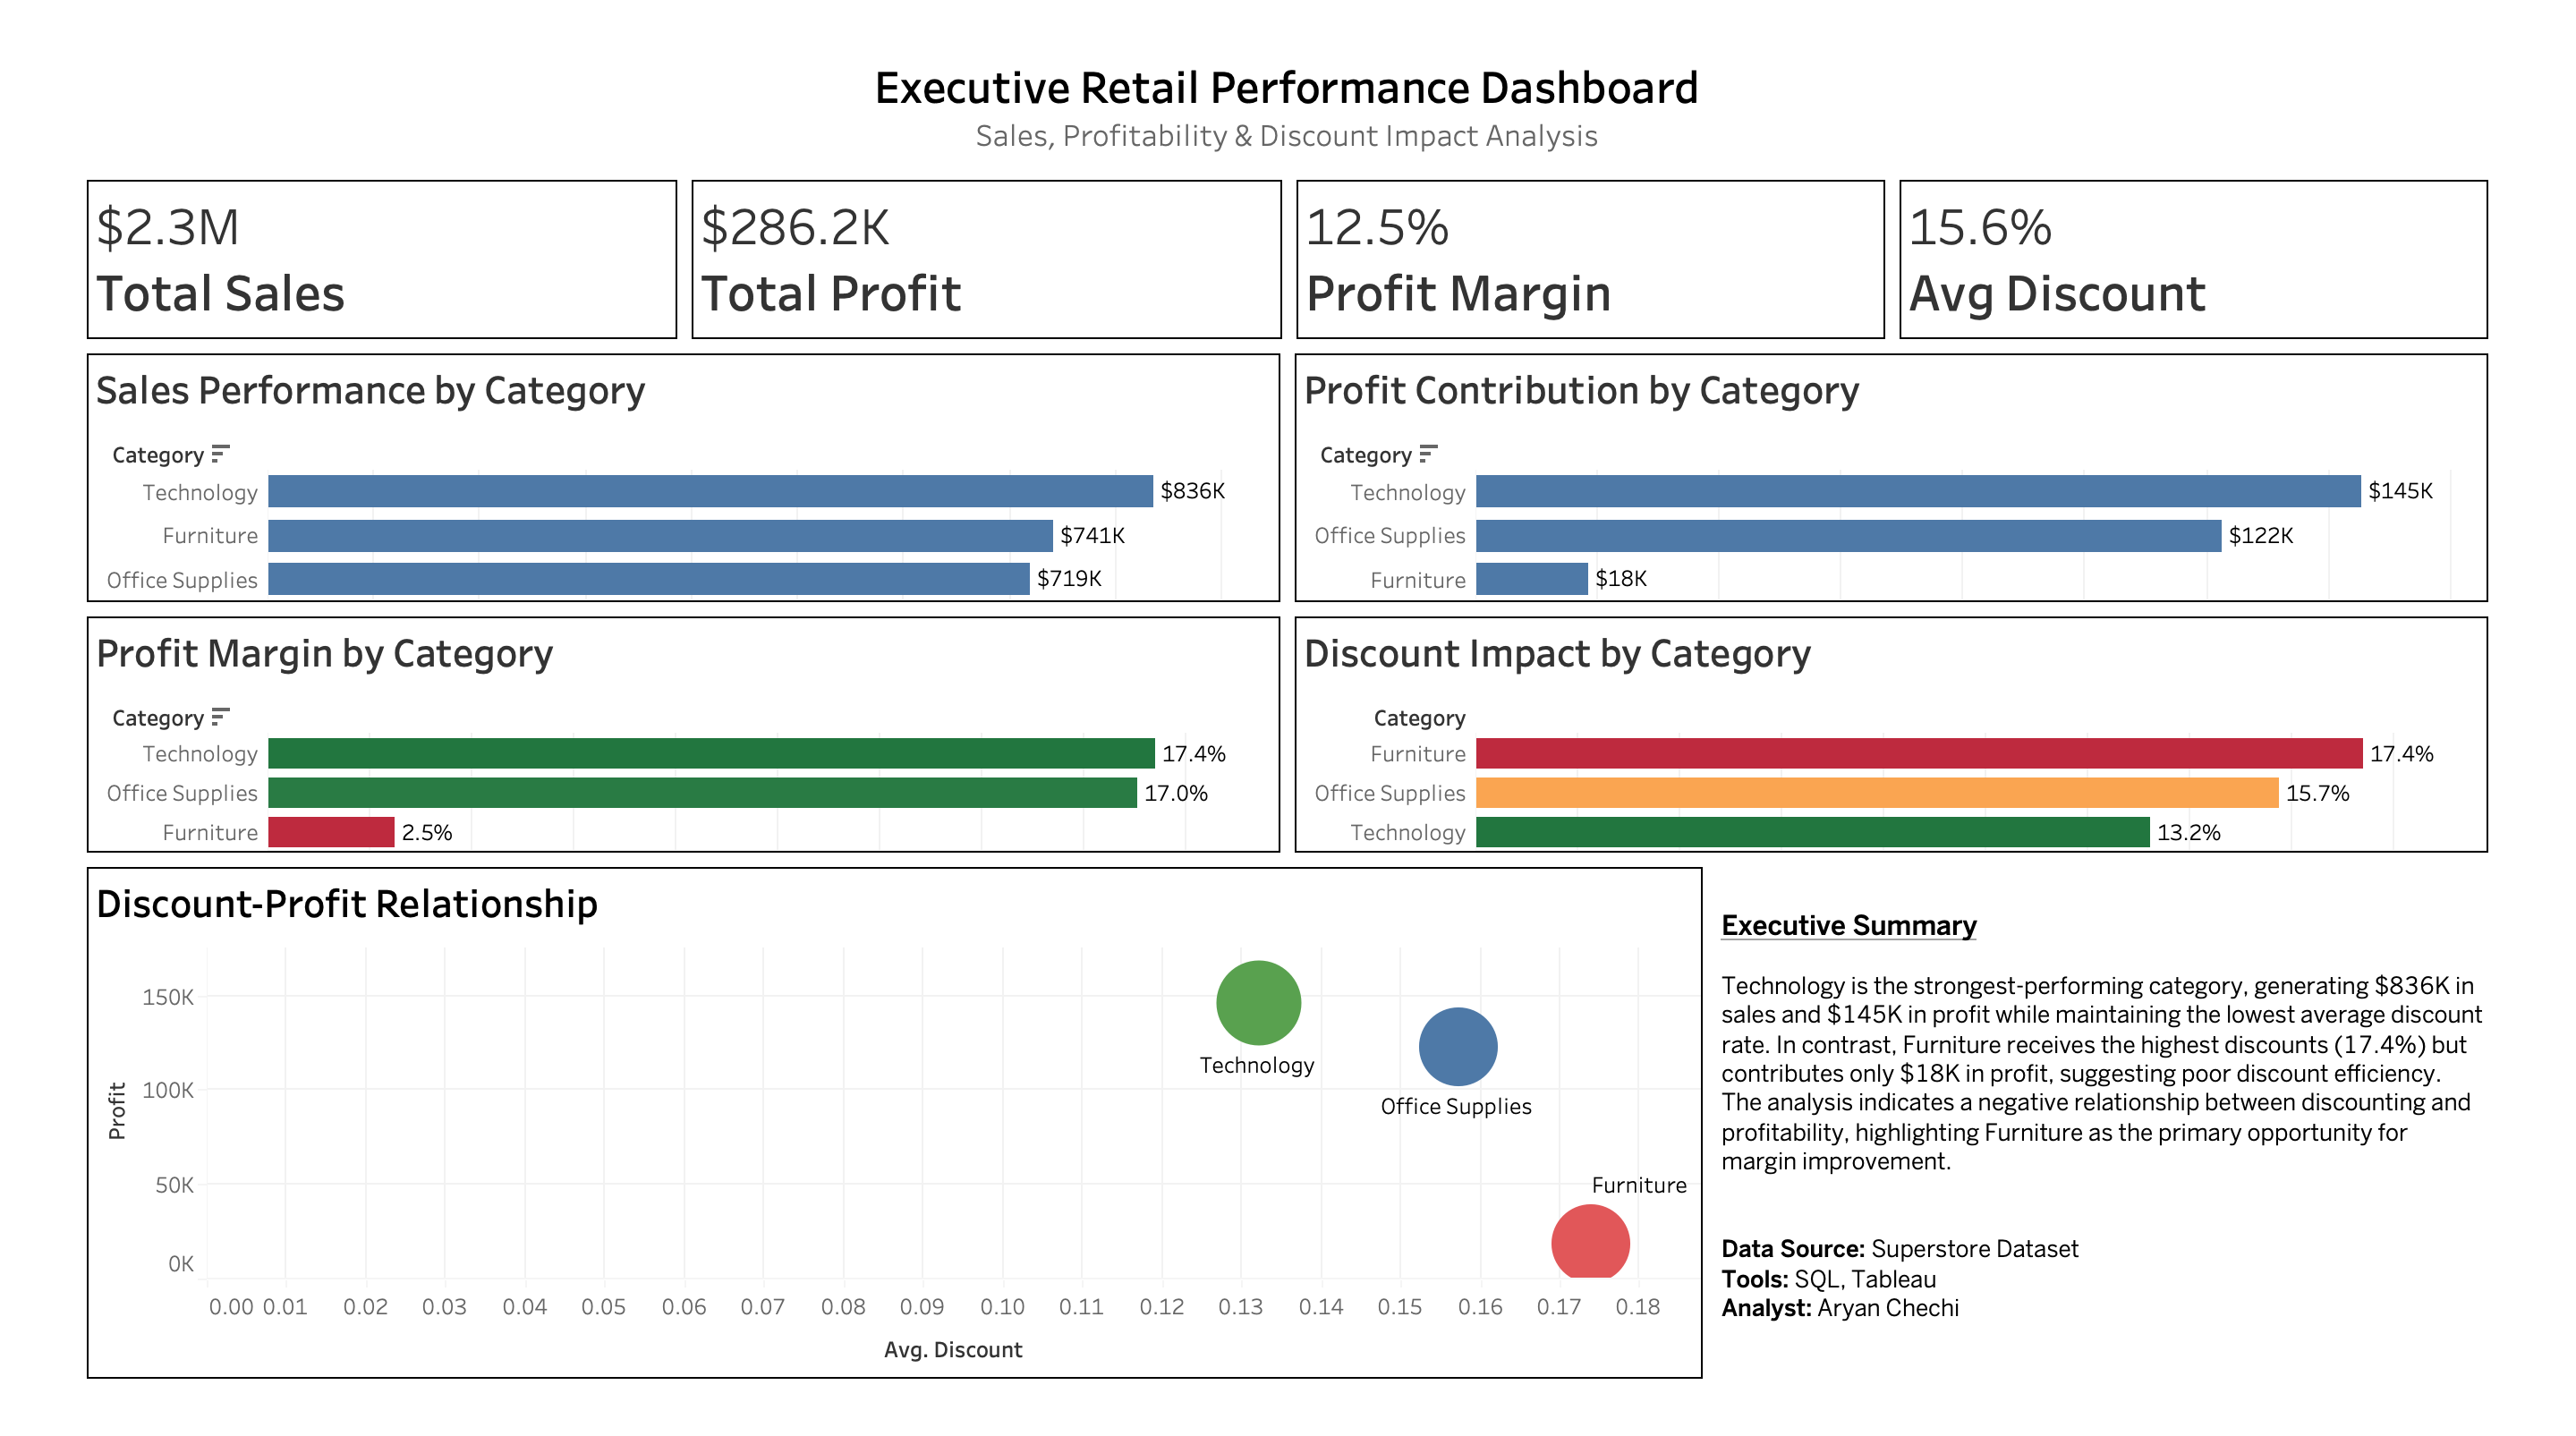

The page's visual inventory and layout, read from the dashboard file:
{"tool":"tableau","page":{"name":"Executive Sales & Profitability Dashboard","canvas":[1366,768],"ordinal":1},"visuals":[{"type":"text","box":[8,8,1350,74]},{"type":"worksheet","title":"KPI - Total Sales","mark":"Automatic","box":[8,82,338,97]},{"type":"worksheet","title":"KPI - Total Profit","mark":"Automatic","box":[346,82,338,97]},{"type":"worksheet","title":"KPI - Profit Margin","mark":"Automatic","box":[684,82,337,97]},{"type":"worksheet","title":"KPI - Average Discount","mark":"Automatic","box":[1021,82,337,97]},{"type":"worksheet","title":"Category Performance","mark":"Automatic","rows":["Category"],"cols":["Sales"],"box":[8,179,675,147]},{"type":"worksheet","title":"Category Profitability","mark":"Automatic","rows":["Category"],"cols":["Profit"],"box":[683,179,675,147]},{"type":"worksheet","title":"Category Profit Margin","mark":"Automatic","rows":["Category"],"cols":["Calculation_2353651724660736"],"box":[8,326,675,140]},{"type":"worksheet","title":"Discount Impact by Category","mark":"Automatic","rows":["Category"],"cols":["Discount"],"box":[683,326,675,140]},{"type":"worksheet","title":"Discount vs Profit Analysis","mark":"Circle","rows":["Profit"],"cols":["Discount"],"box":[8,466,911,294]},{"type":"text","box":[919,466,439,294]}]}

Visuals, with their boxes in screenshot pixels (x1, y1, x2, y2), scaled from the page's 1366x768 canvas onto the 2576x1436 screenshot:
text: select_region(15, 15, 2561, 153)
"KPI - Total Sales" worksheet: select_region(15, 153, 652, 335)
"KPI - Total Profit" worksheet: select_region(652, 153, 1290, 335)
"KPI - Profit Margin" worksheet: select_region(1290, 153, 1926, 335)
"KPI - Average Discount" worksheet: select_region(1926, 153, 2561, 335)
"Category Performance" worksheet: select_region(15, 335, 1288, 609)
"Category Profitability" worksheet: select_region(1288, 335, 2561, 609)
"Category Profit Margin" worksheet: select_region(15, 609, 1288, 871)
"Discount Impact by Category" worksheet: select_region(1288, 609, 2561, 871)
"Discount vs Profit Analysis" worksheet (Circle marks): select_region(15, 871, 1733, 1421)
text: select_region(1733, 871, 2561, 1421)
